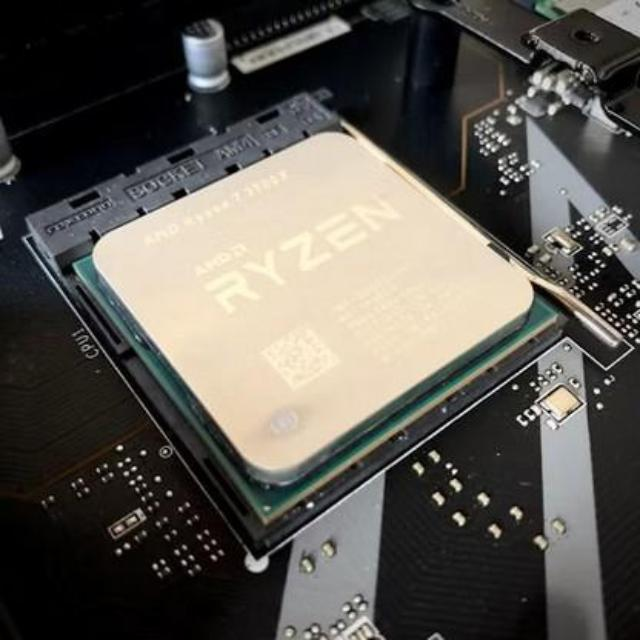CPU: (78, 127, 550, 498)
